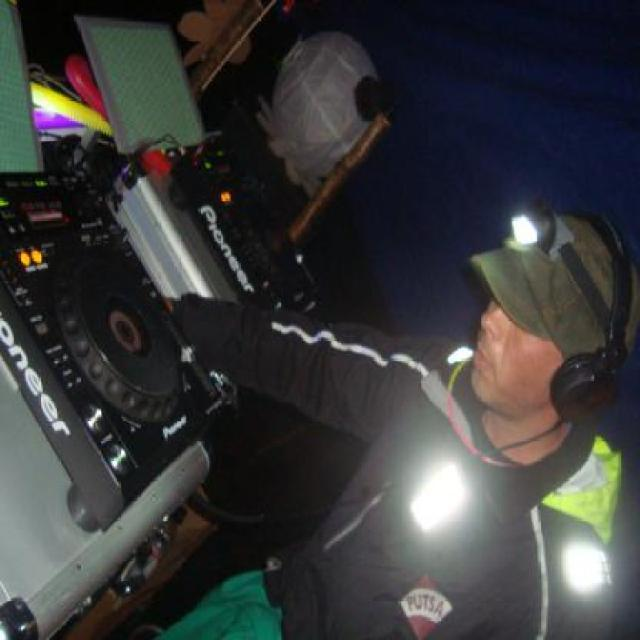earphone: (543, 195, 635, 452)
